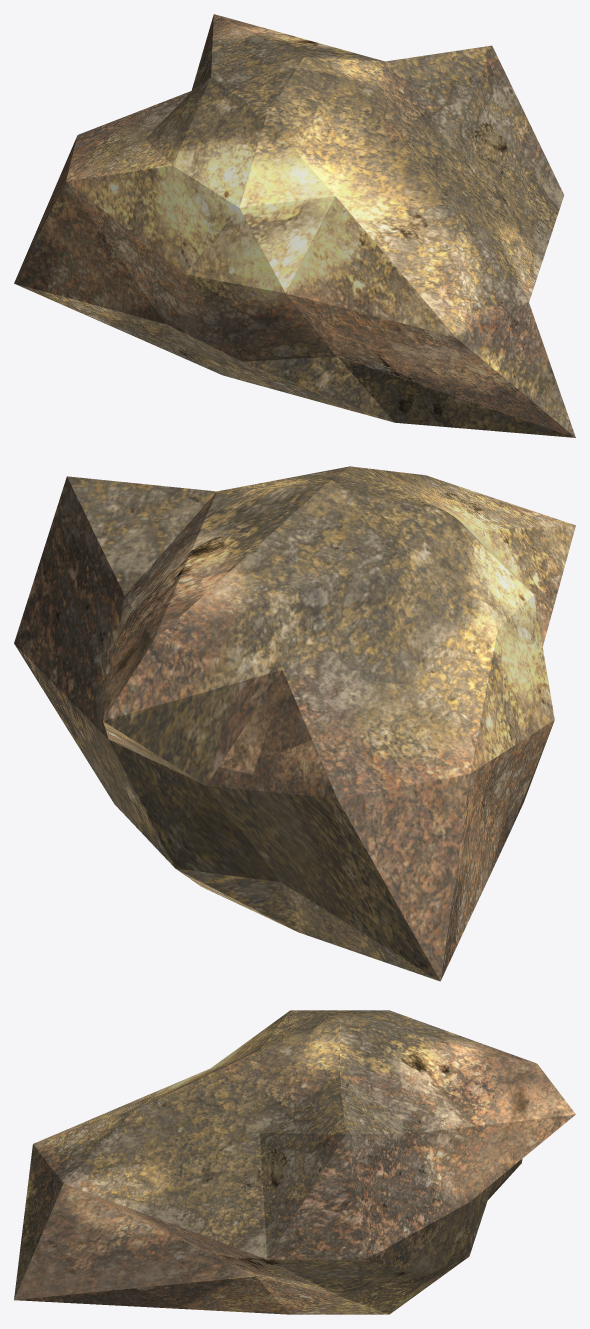
The model's file is asteroid.fbx.
3 renders of one model, top to bottom at view 1: azimuth 30°, elevation 25°; view 2: azimuth 150°, elevation 25°; view 3: azimuth 270°, elevation 25°, orthographic. The views are drawn at different scales.
Visible parts, largest first — view 1: Icosphere; view 2: Icosphere; view 3: Icosphere.
Boxes of the visible parts, left/top/right/bottom form: Icosphere: left=14, top=14, right=575, bottom=437; Icosphere: left=14, top=466, right=575, bottom=981; Icosphere: left=14, top=1010, right=575, bottom=1314.
Bounding box in the file's own units: 265 × 200 × 351.
1 material, 1 textured.
